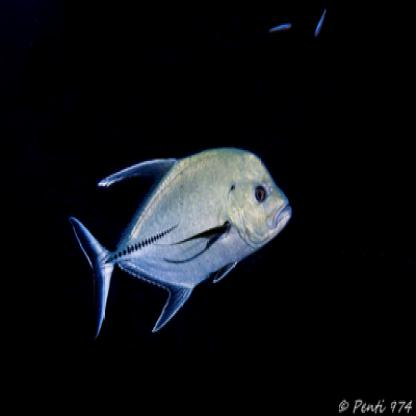jack: (49, 139, 298, 358)
